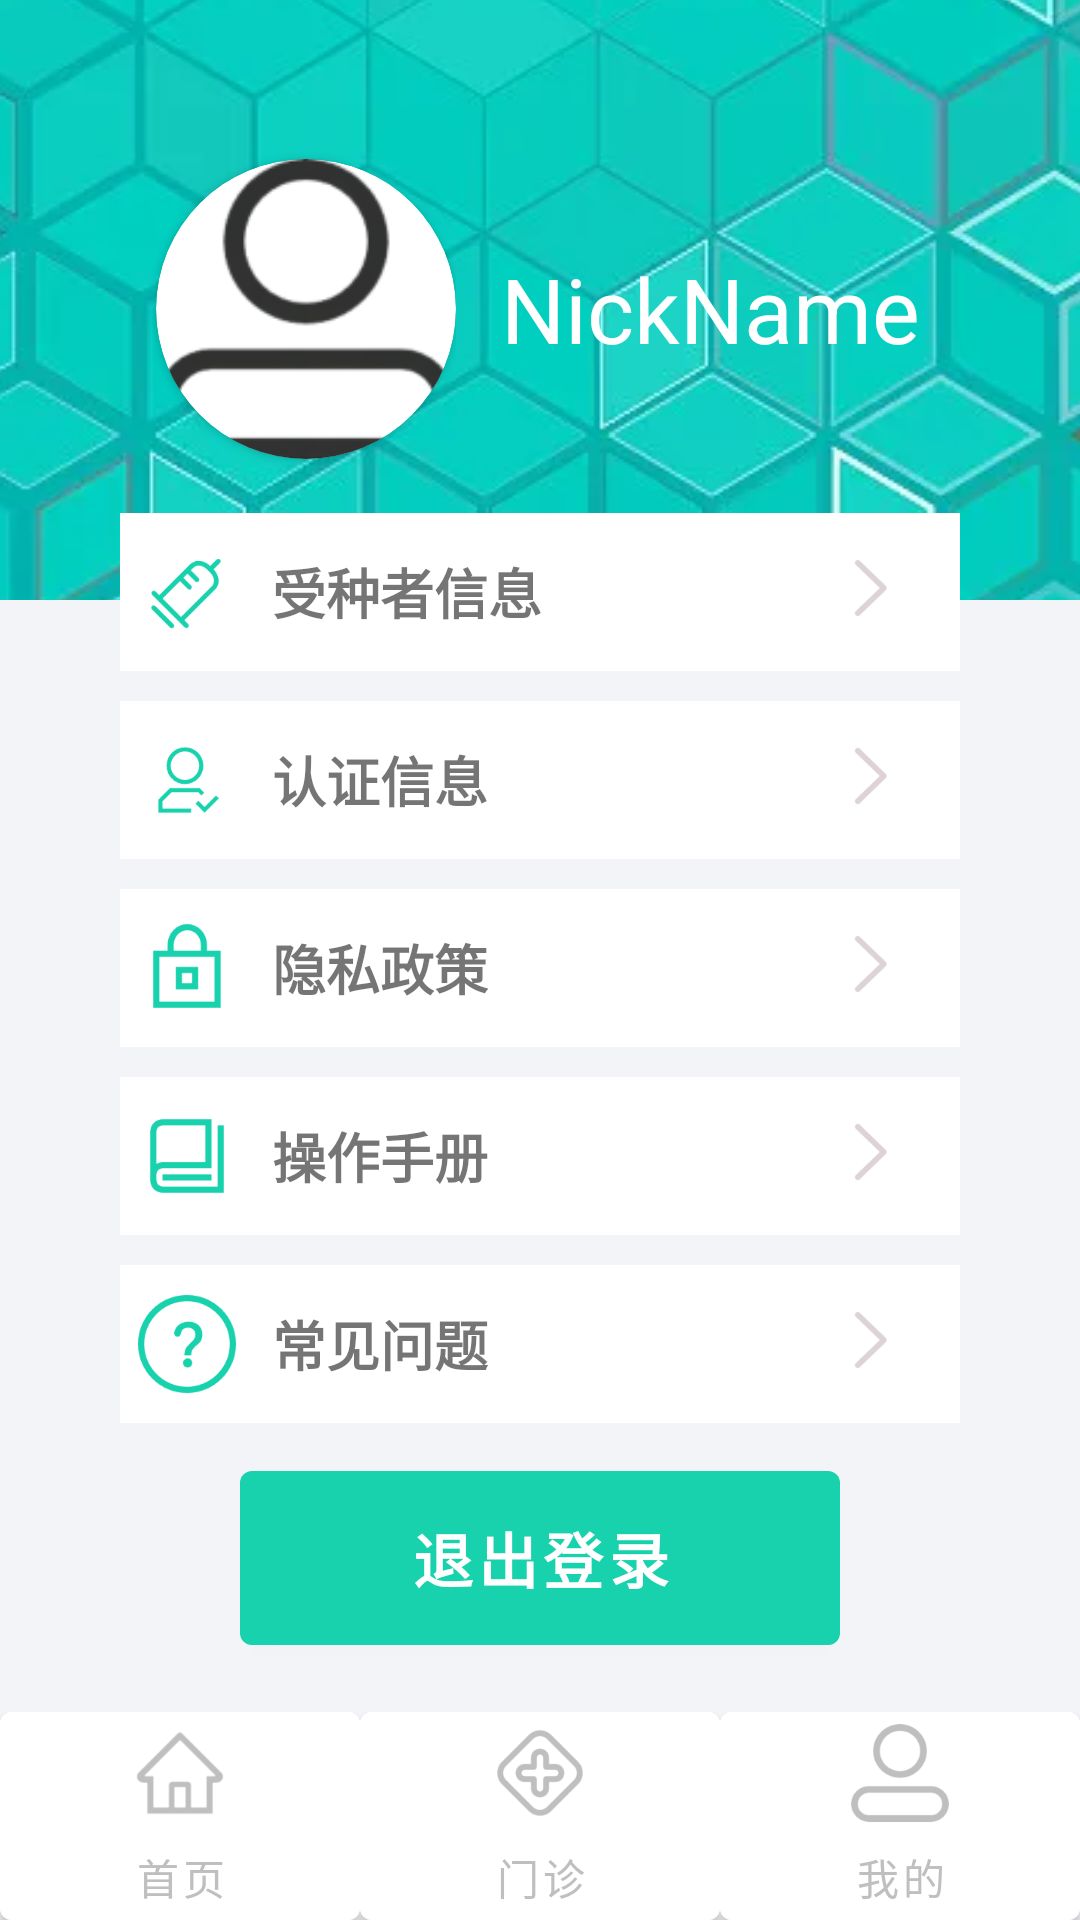

Where to tap for icons on this 1080 x 1920 app screen, as (x,y):
caozuoshouce: (187,1156)
changjianwenti: (187,1344)
renzheng: (188,780)
right arrow: (871,588), (871,776), (871,964), (871,1152), (871,1340)
shouzhongzhe: (186,594)
yinsizhengce: (187,965)
